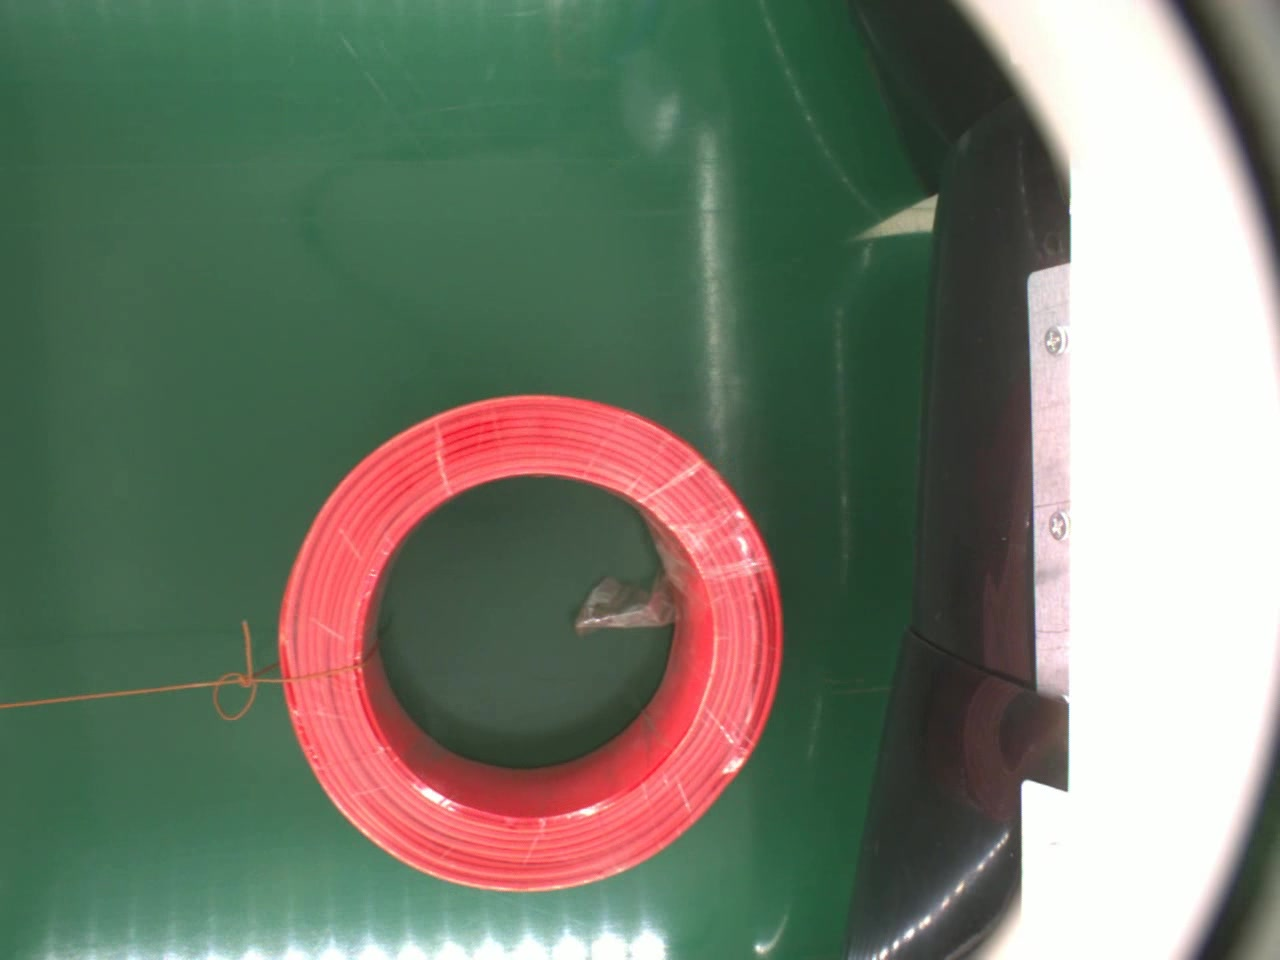red: (269, 388, 788, 898)
